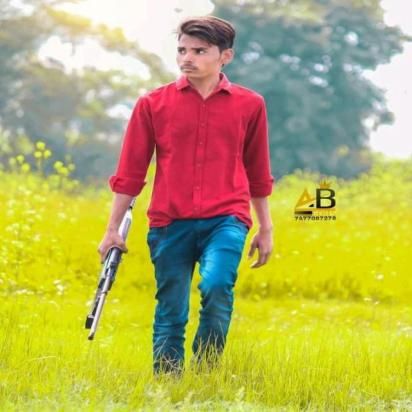Gun: (83, 195, 137, 343)
